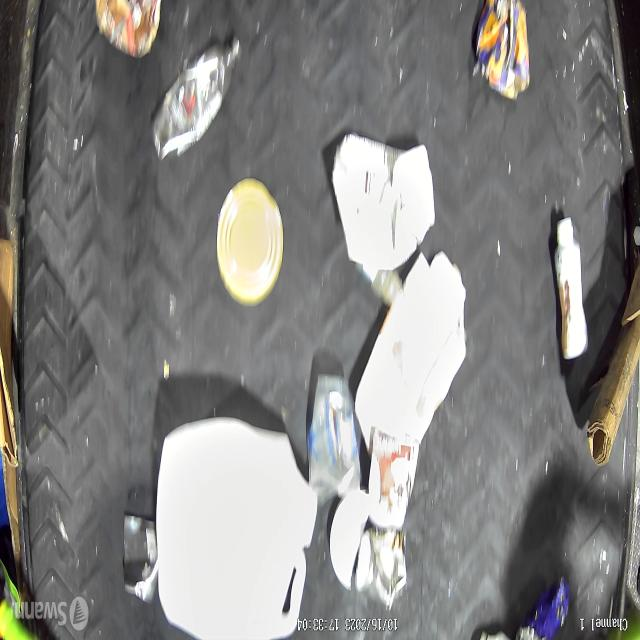can: (214, 179, 284, 308)
milk_jug: (153, 407, 318, 640)
